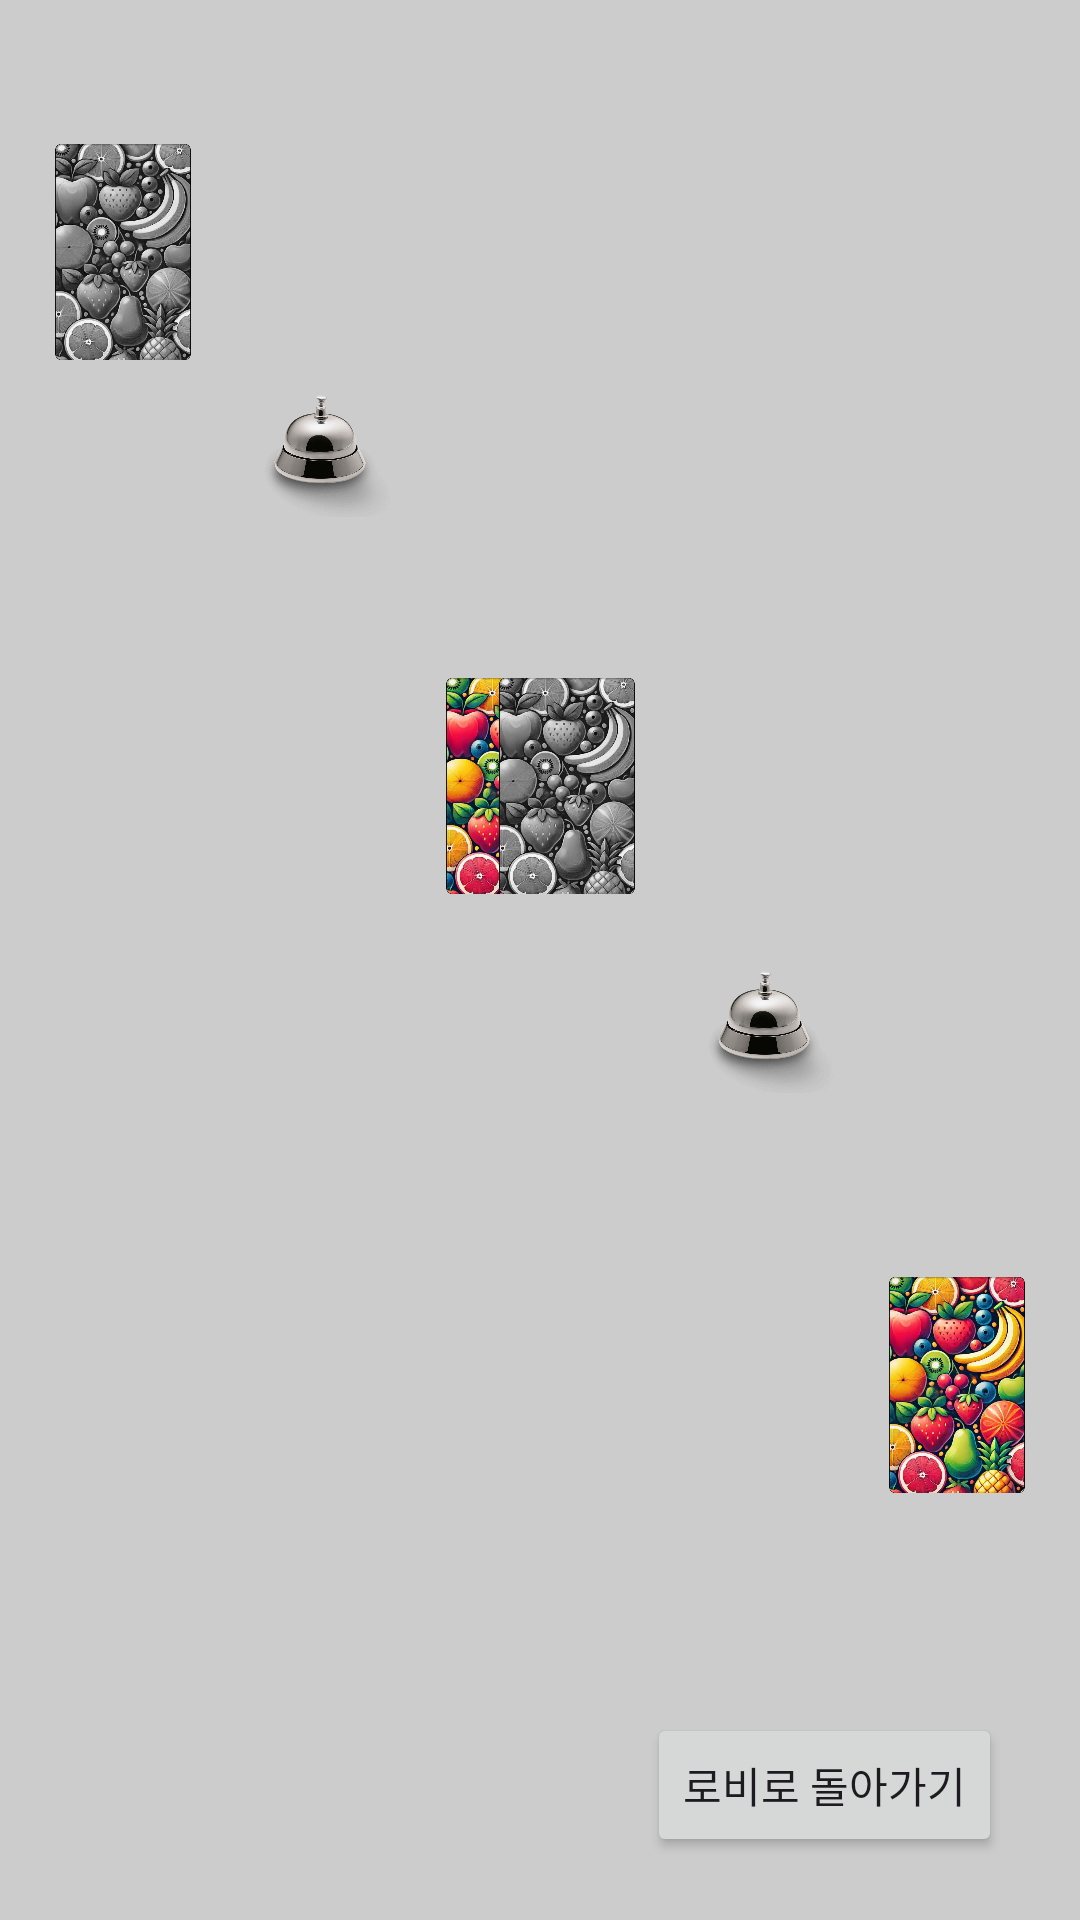

Icons on this 1080px x 1920px Android screen, each with the point to tap as (x,y):
Game Bell: (320,450), (764,1026)
